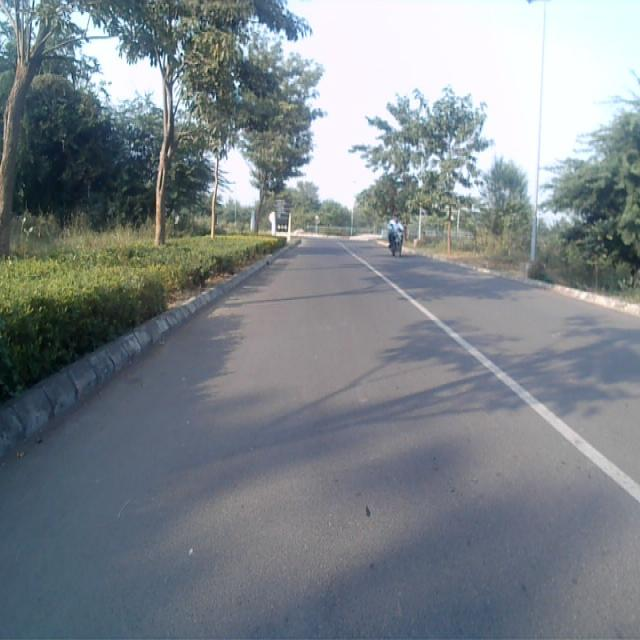lane: (0, 241, 640, 640)
